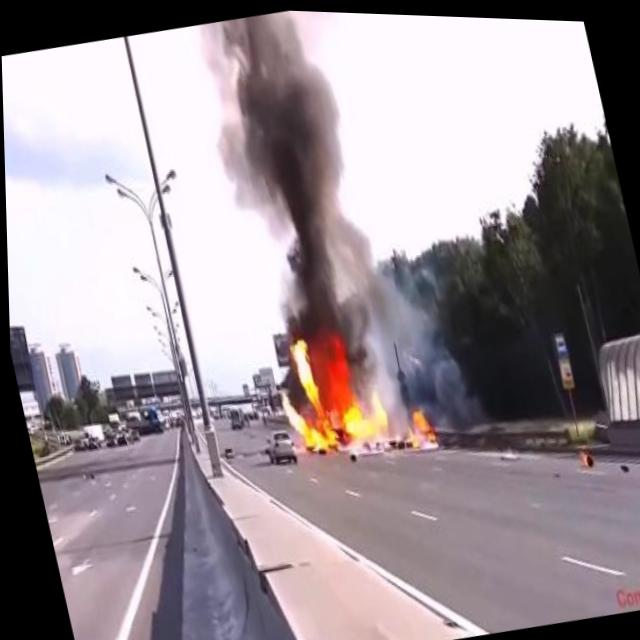fire: (265, 316, 396, 469), (398, 401, 436, 451)
